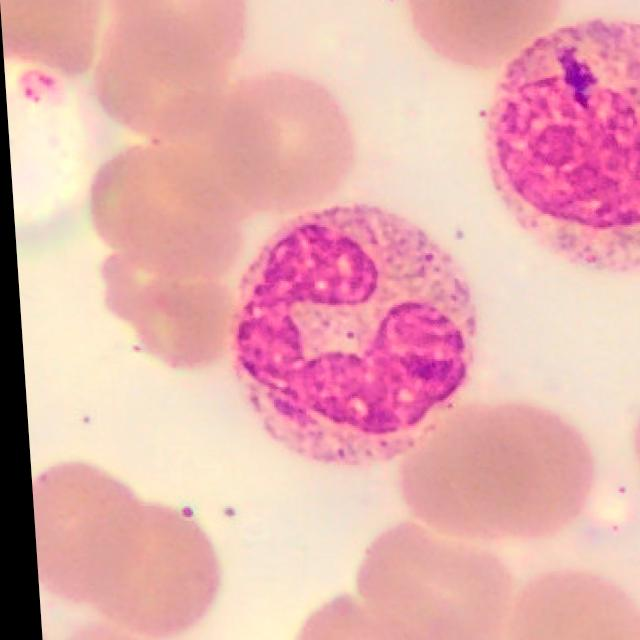Metamielocito: (479, 17, 640, 268)
Neutrofilo segmentado: (224, 203, 473, 463)
